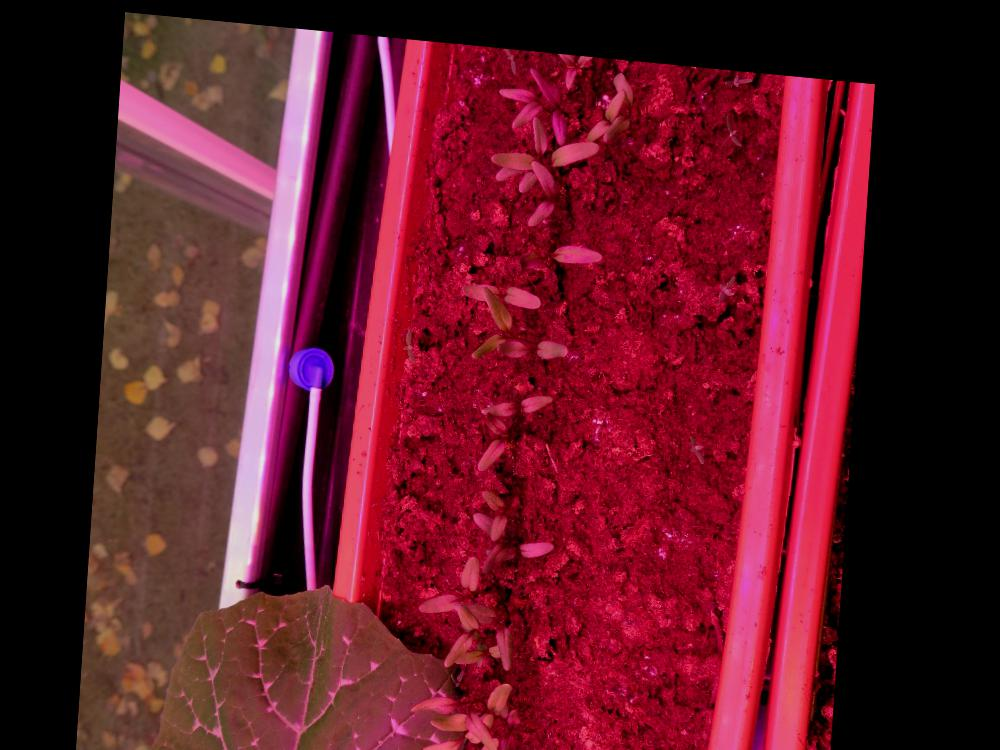crop: (515, 229, 609, 270)
weed: (716, 258, 741, 295), (721, 98, 746, 133), (691, 421, 714, 452), (721, 58, 755, 76)
